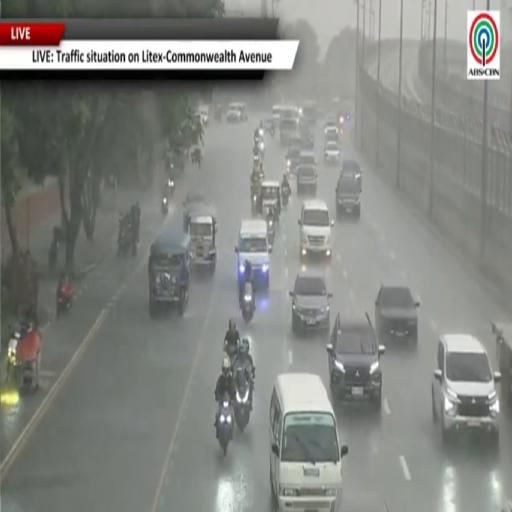car: (432, 334, 500, 446), (327, 313, 385, 408), (289, 270, 332, 333), (375, 284, 419, 344), (298, 200, 333, 260), (492, 323, 511, 408), (336, 171, 360, 218), (296, 165, 317, 197), (341, 159, 362, 191), (286, 142, 301, 173), (324, 141, 341, 165), (324, 120, 340, 141), (298, 151, 316, 167), (227, 106, 242, 122), (198, 105, 209, 126), (325, 130, 339, 142)
jeepney: (149, 231, 190, 317), (189, 213, 217, 271), (259, 181, 281, 217)
motorcycle: (6, 327, 41, 390), (234, 368, 252, 431), (216, 394, 232, 456), (117, 218, 137, 257), (241, 283, 254, 323), (56, 291, 73, 317), (266, 208, 275, 248), (48, 239, 58, 272), (224, 341, 238, 364), (282, 185, 291, 206), (258, 140, 266, 161), (161, 197, 169, 215), (167, 179, 175, 197), (252, 194, 258, 216), (254, 153, 261, 167), (270, 125, 275, 138)
